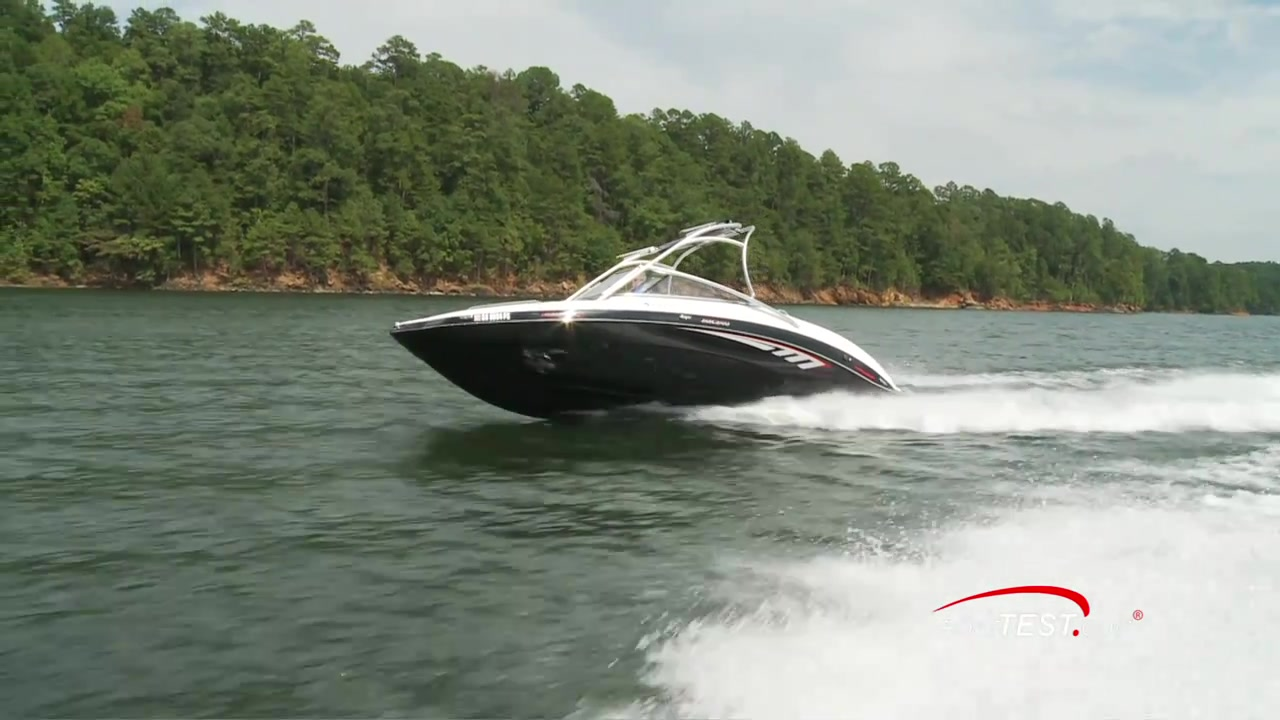boat: (384, 205, 905, 419)
